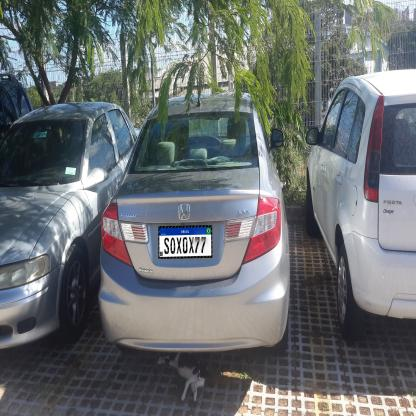PlacaM: (158, 225, 212, 259)
